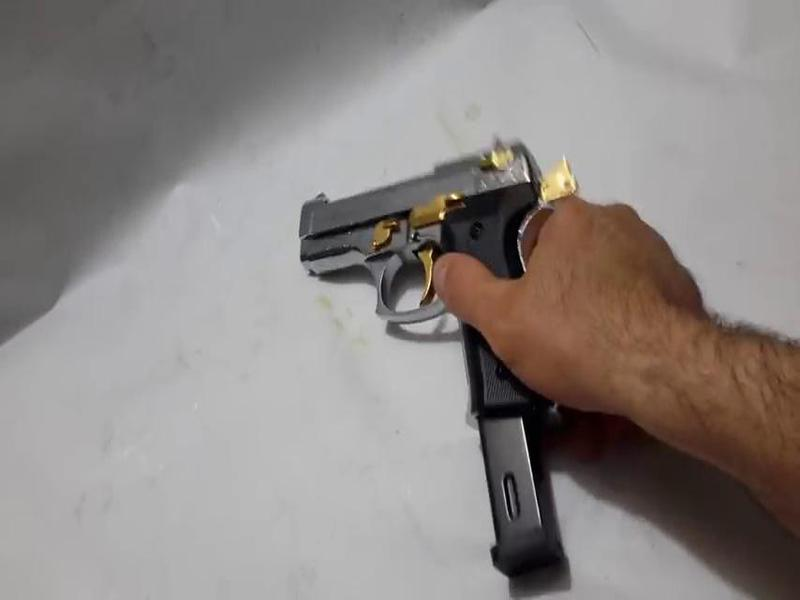Pistola: (282, 108, 613, 442)
